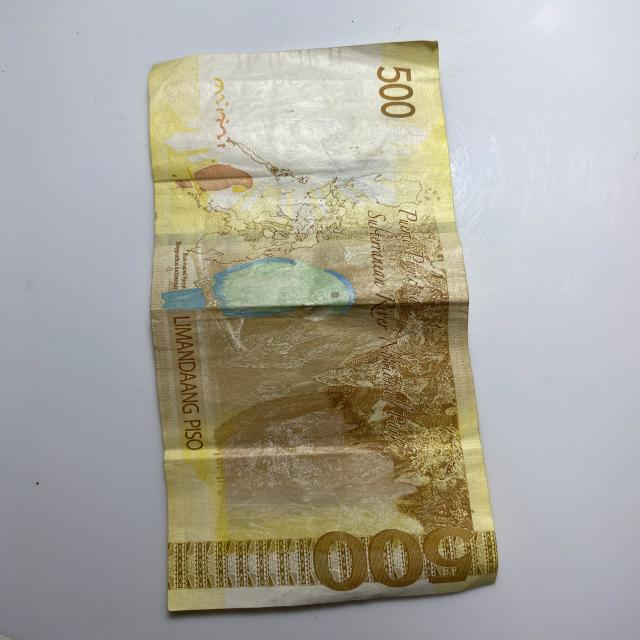500_big_parrot: (156, 257, 352, 327)
500_parrot_watermark: (168, 162, 255, 202)
value_watermark: (258, 72, 304, 88)
